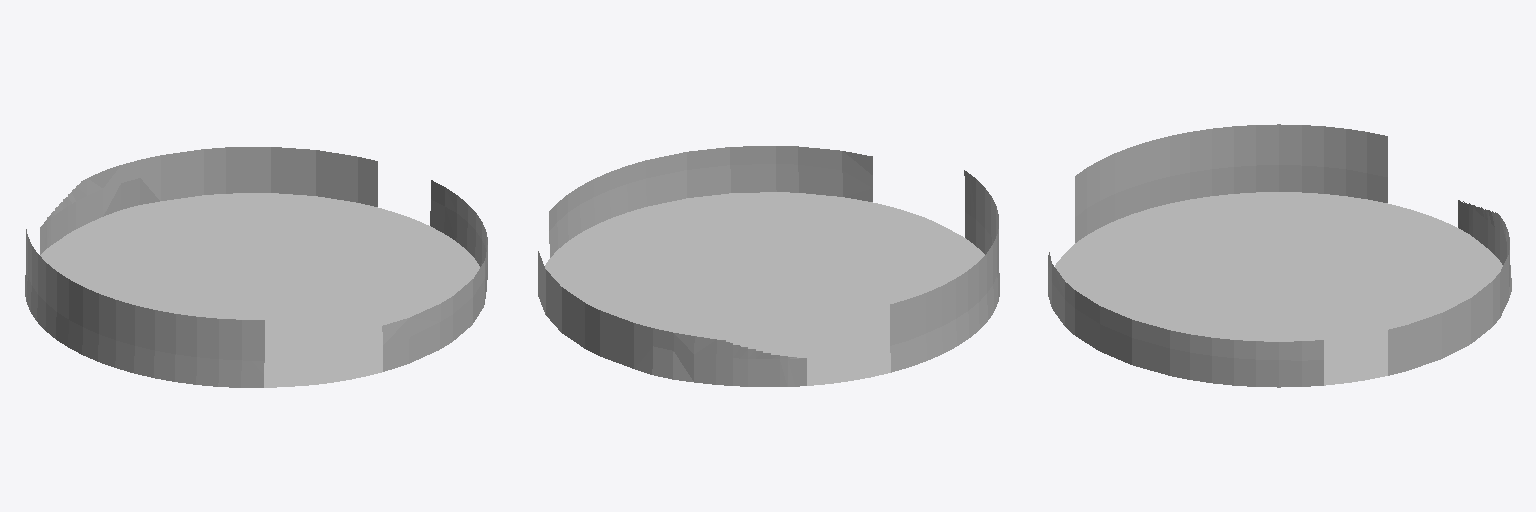
File: venice_6.obj
3 renders of one model, left to right at view 1: azimuth 30°, elevation 25°; view 2: azimuth 150°, elevation 25°; view 3: azimuth 270°, elevation 25°, orthographic.
Size of the model in its own units: 30.07 by 4.87 by 30.14.